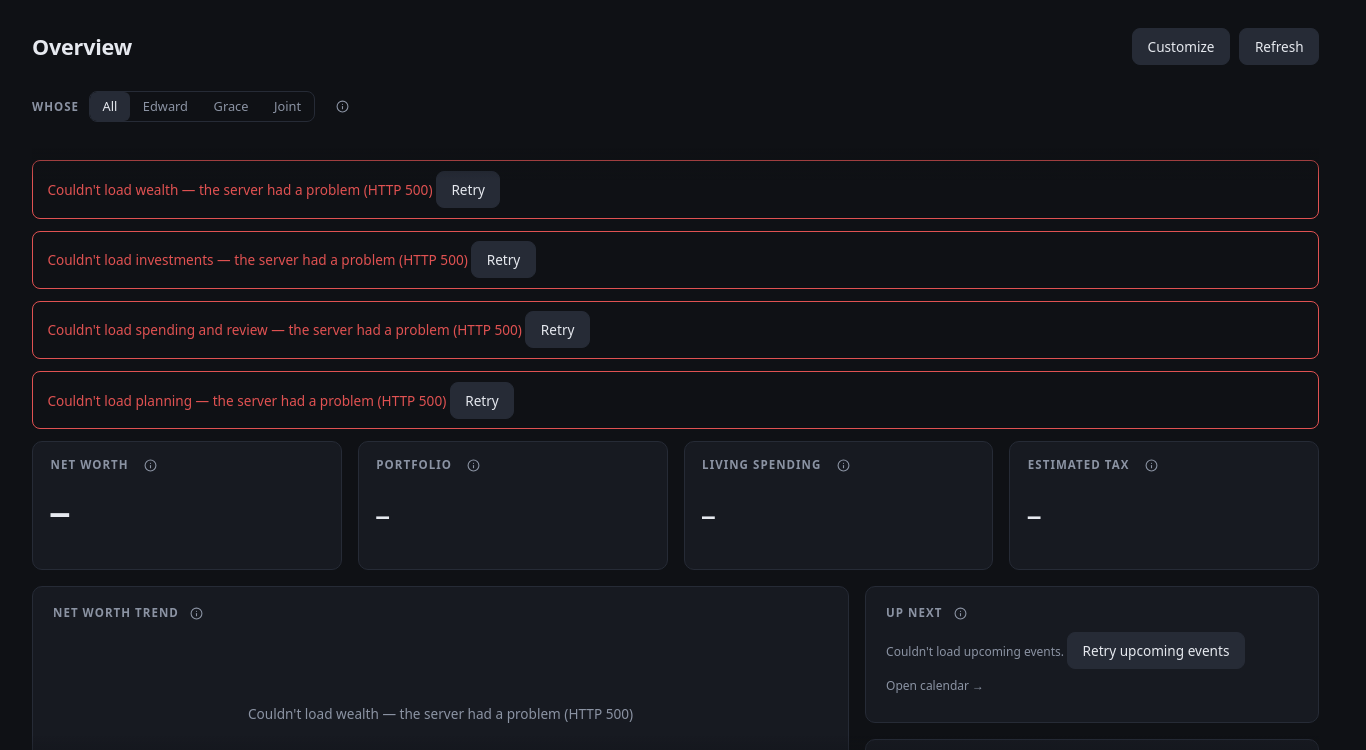
Test: OverviewPage failures › names each failed resource group and refetches all groups on Refresh
This screenshot has width=1366, height=750.
Click the button "Refresh".
click(1279, 46)  # box [1240, 28, 1319, 65]
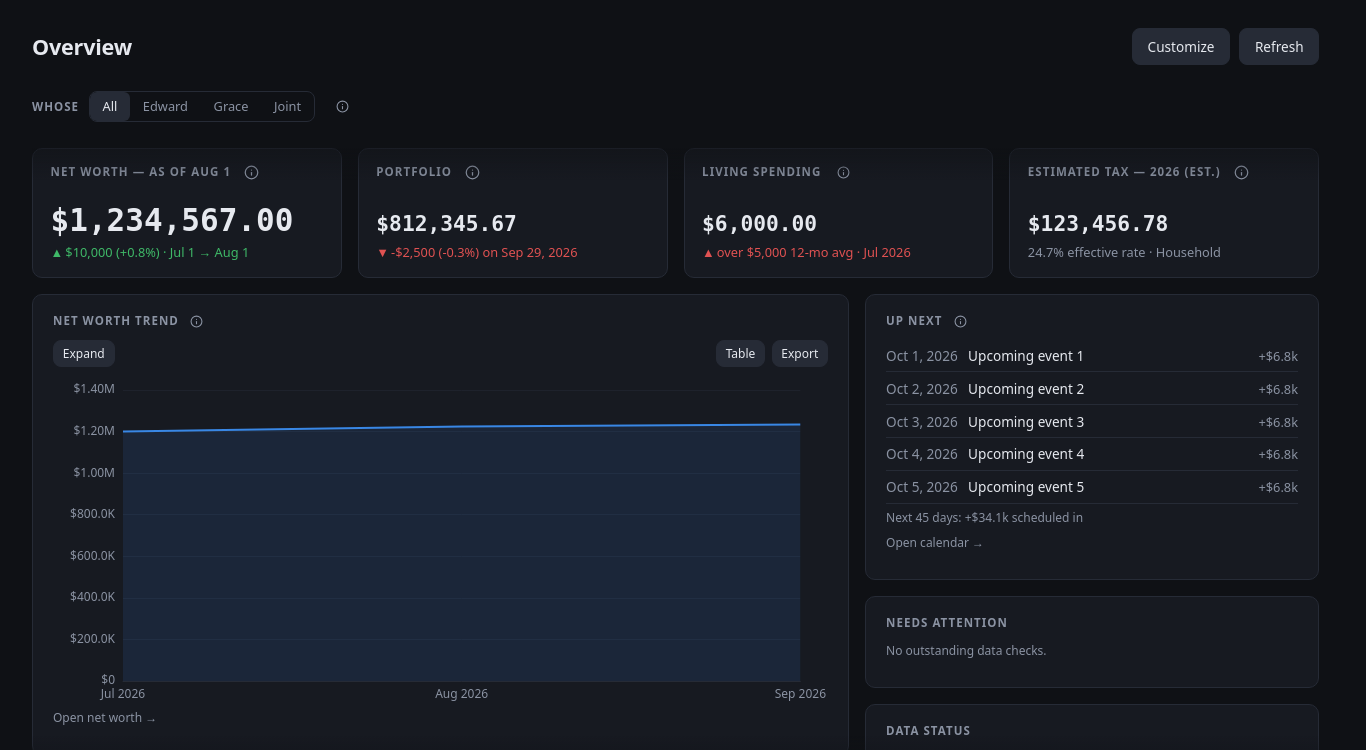
Now the text "Net worth — as of Aug 1" is shown, box [51, 164, 264, 179]
Now the message "Couldn't load wealth — the server had a problem (HTTP 500) Retry" is gone
